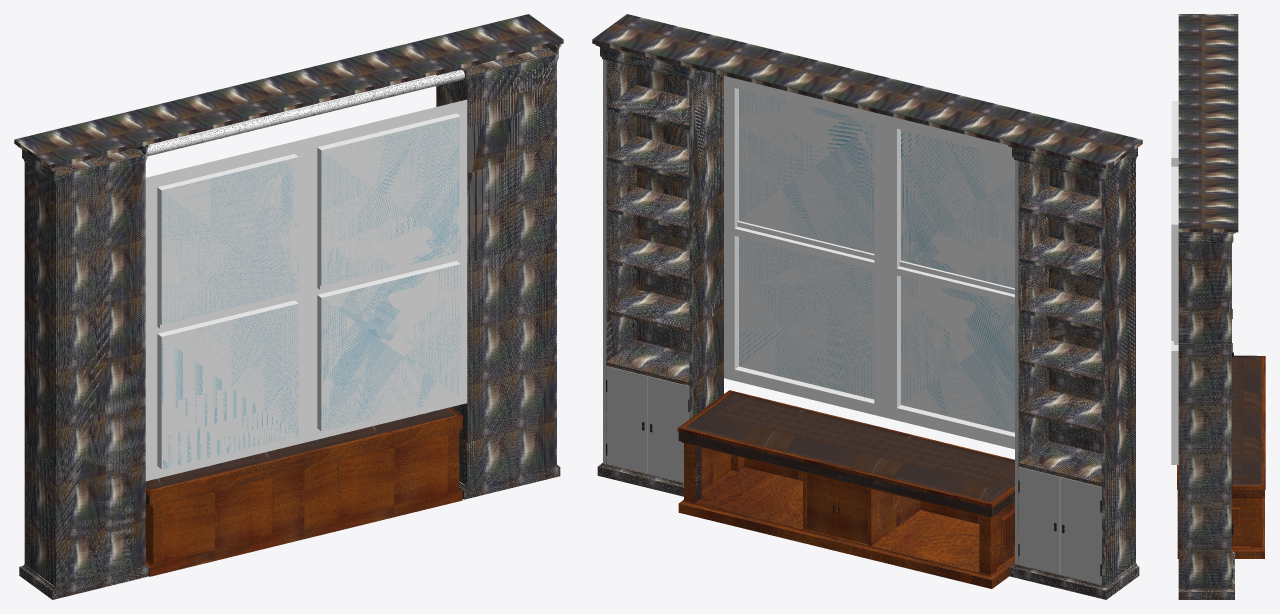
3 renders of one model, left to right at view 1: azimuth 30°, elevation 25°; view 2: azimuth 150°, elevation 25°; view 3: azimuth 270°, elevation 25°, orthographic. The views are drawn at different scales.
Parts seen in each view (by area): view 1: mesh42_mesh42-geometry, mesh37_mesh37-geometry, mesh46_mesh46-geometry, mesh47_mesh47-geometry, mesh48_mesh48-geometry, mesh29_mesh29-geometry; view 2: mesh42_mesh42-geometry, mesh37_mesh37-geometry, mesh46_mesh46-geometry, mesh47_mesh47-geometry, mesh29_mesh29-geometry, mesh38_mesh38-geometry, mesh39_mesh39-geometry, mesh25_mesh25-geometry, mesh27_mesh27-geometry; view 3: mesh37_mesh37-geometry, mesh47_mesh47-geometry, mesh29_mesh29-geometry, mesh46_mesh46-geometry, mesh42_mesh42-geometry.
Part boxes in pixels (<box>): mesh42_mesh42-geometry: <box>145,99,467,481</box>; mesh37_mesh37-geometry: <box>18,44,561,599</box>; mesh46_mesh46-geometry: <box>145,407,463,576</box>; mesh47_mesh47-geometry: <box>14,14,563,168</box>; mesh48_mesh48-geometry: <box>147,69,464,156</box>; mesh29_mesh29-geometry: <box>145,408,455,489</box>; mesh42_mesh42-geometry: <box>724,76,1014,449</box>; mesh37_mesh37-geometry: <box>595,44,1139,599</box>; mesh46_mesh46-geometry: <box>677,390,1014,588</box>; mesh47_mesh47-geometry: <box>592,14,1142,169</box>; mesh29_mesh29-geometry: <box>685,392,1014,502</box>; mesh38_mesh38-geometry: <box>606,366,1060,574</box>; mesh39_mesh39-geometry: <box>648,376,1101,584</box>; mesh25_mesh25-geometry: <box>837,481,867,544</box>; mesh27_mesh27-geometry: <box>807,473,837,536</box>; mesh37_mesh37-geometry: <box>1178,232,1235,599</box>; mesh47_mesh47-geometry: <box>1178,14,1238,232</box>; mesh29_mesh29-geometry: <box>1231,355,1261,484</box>; mesh46_mesh46-geometry: <box>1177,356,1265,558</box>; mesh42_mesh42-geometry: <box>1171,101,1178,464</box>.
Bounding box in the file's own units: 0.7693 × 0.6227 × 0.1428.
